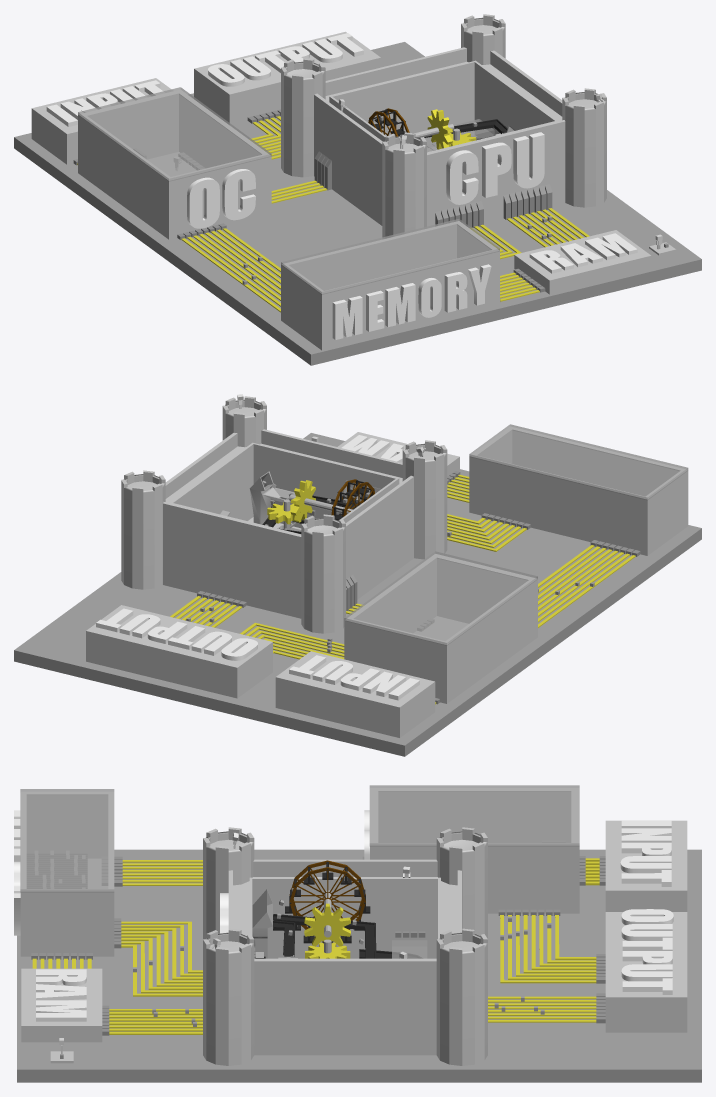
Rendered from CPU.fbx.
3 views of the same model, one above another, from view 1: azimuth 30°, elevation 25°; view 2: azimuth 150°, elevation 25°; view 3: azimuth 270°, elevation 25° (orthographic). The views are drawn at different scales.
Parts seen in each view (by area): view 1: buildings, group4_pasted__pCube4, names, pCube29, pasted__pCube29, wires, imputs, pasted__connectors1, pGear2, pasted__pasted__group14_pasted__pasted__group7_pasted__paste; view 2: buildings, group4_pasted__pCube4, pCube29, wires, pasted__pCube29, names, operators, pasted__connectors1, pGear2; view 3: buildings, group4_pasted__pCube4, wires, pCube29, names, pasted__pCube29, pasted__connectors1, group32, memory, roads, pGear2, operators (+3 smaller).
Boxes of the visible parts, x1,y1,x2,y2 form: buildings: (31,14,651,350); group4_pasted__pCube4: (14,42,701,365); names: (46,33,637,339); pCube29: (78,87,271,181); pasted__pCube29: (281,219,499,294); wires: (181,116,589,312); imputs: (435,184,552,227); pasted__connectors1: (73,109,545,301); pGear2: (427,109,452,149); pasted__pasted__group14_pasted__pasted__group7_pasted__paste: (314,151,331,190); buildings: (86,396,688,737); group4_pasted__pCube4: (14,433,701,756); pCube29: (344,551,537,645); wires: (170,474,635,659); pasted__pCube29: (469,424,688,500); names: (96,435,419,700); operators: (249,471,381,524); pasted__connectors1: (197,471,640,704); pGear2: (290,480,315,521); buildings: (20,788,687,1065); group4_pasted__pCube4: (17,849,701,1082); wires: (32,860,596,1034); pCube29: (369,785,579,846); names: (14,810,673,1021); pasted__pCube29: (20,789,114,892); pasted__connectors1: (31,856,605,1035); group32: (289,860,365,929); memory: (27,853,87,888); roads: (255,914,422,958); pGear2: (304,903,350,946); operators: (252,889,297,958).
Bounding box in the file's own units: 136 × 38.78 × 180.
